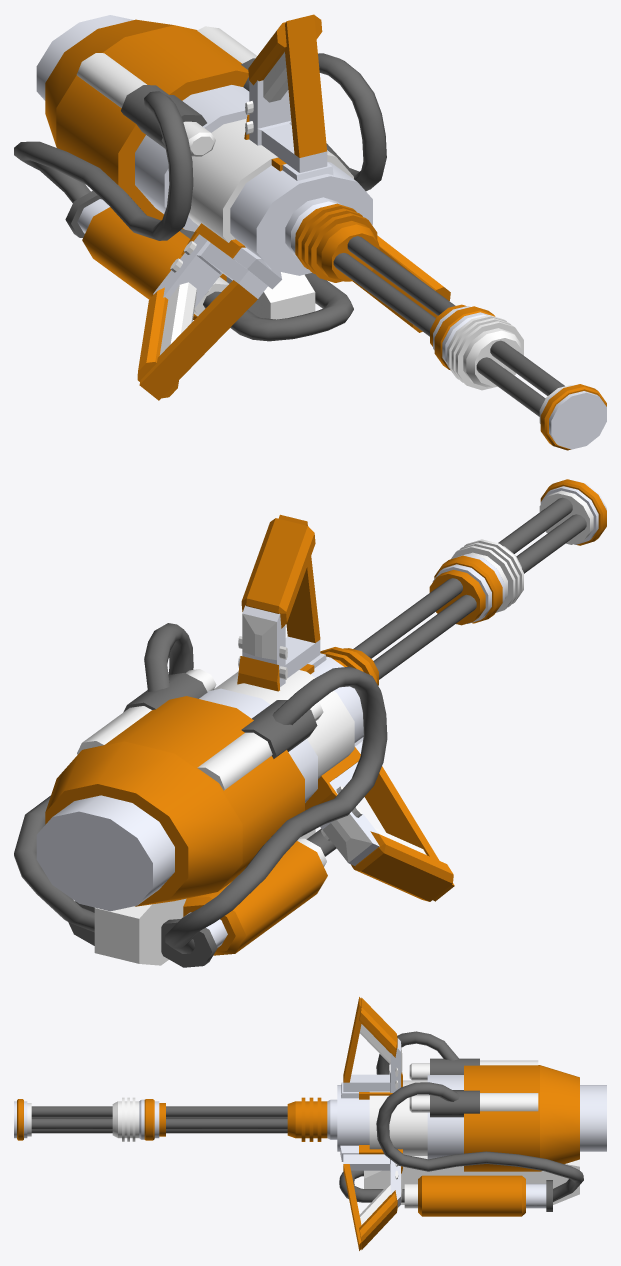
File: AutoCannon3.fbx
The picture shows the model from 3 angles, top to bottom: view 1: azimuth 30°, elevation 25°; view 2: azimuth 150°, elevation 25°; view 3: azimuth 270°, elevation 25°; orthographic projection. The views are drawn at different scales.
Visible parts, largest first — view 1: mergedBlocks; view 2: mergedBlocks; view 3: mergedBlocks.
Boxes of the visible parts, bbox=[...] form: mergedBlocks: bbox=[14, 14, 606, 450]; mergedBlocks: bbox=[14, 479, 606, 967]; mergedBlocks: bbox=[14, 997, 606, 1250].
Size of the model in its own units: 70.54 by 75.12 by 189.
